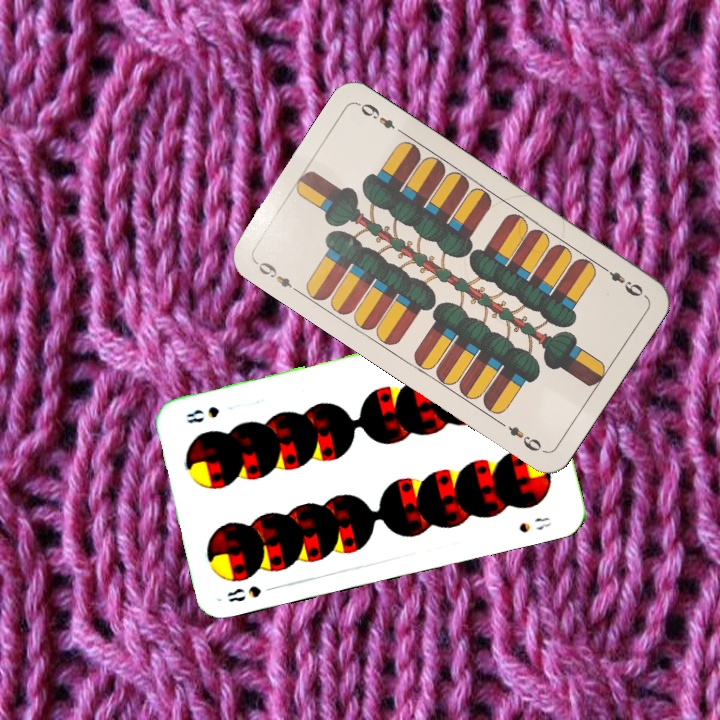E9: (596, 261, 648, 300), (251, 257, 303, 296)
S8: (223, 581, 280, 605)
